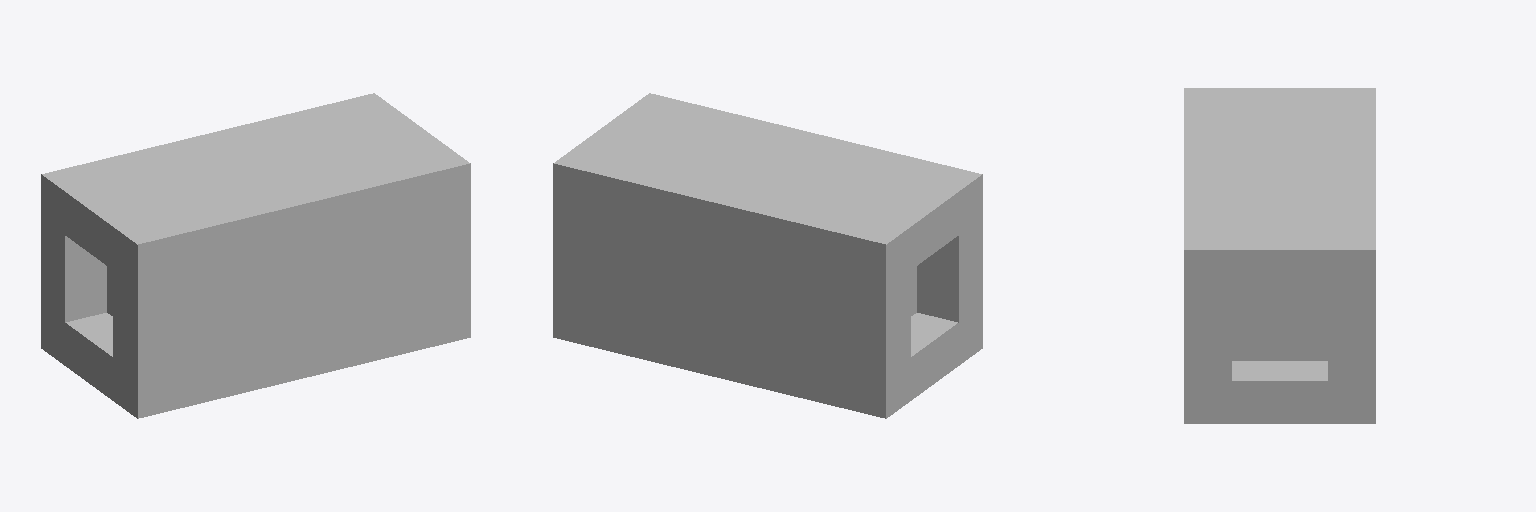
3 views of the same model, side by side, from view 1: azimuth 30°, elevation 25°; view 2: azimuth 150°, elevation 25°; view 3: azimuth 270°, elevation 25° (orthographic).
Visible parts, largest first — view 1: log_1; view 2: log_1; view 3: log_1.
Boxes of the visible parts, x1,y1,x2,y2 form: log_1: [41, 93, 470, 418]; log_1: [553, 93, 982, 418]; log_1: [1184, 88, 1375, 423].
Bounding box in the file's own units: 1 × 0.5 × 0.5.